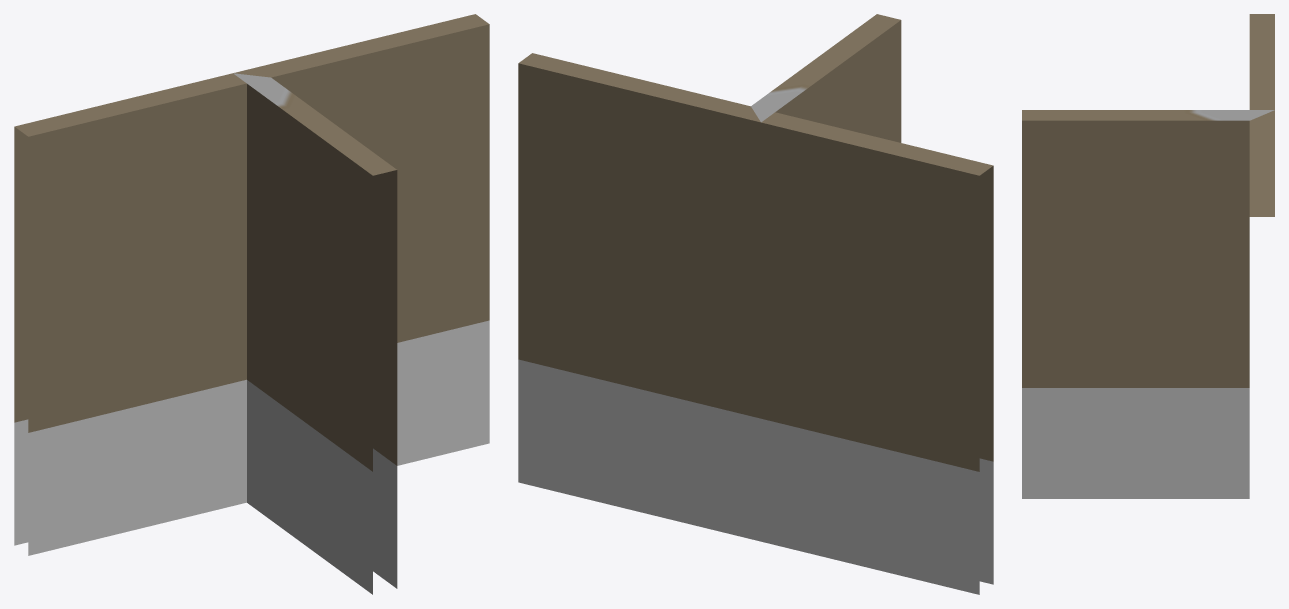
File: SM_Wall_Corner_B_200.FBX
3 views of the same model, side by side, from view 1: azimuth 30°, elevation 25°; view 2: azimuth 150°, elevation 25°; view 3: azimuth 270°, elevation 25° (orthographic). The views are drawn at different scales.
Parts seen in each view (by area): view 1: SM_Wall_Corner_B_200; view 2: SM_Wall_Corner_B_200; view 3: SM_Wall_Corner_B_200.
Part boxes in pixels (box(x1,y1,x2,y2)): SM_Wall_Corner_B_200: box(14, 14, 489, 594); SM_Wall_Corner_B_200: box(518, 14, 993, 594); SM_Wall_Corner_B_200: box(1022, 14, 1274, 498).
Size of the model in its own units: 380 by 200 by 330.
